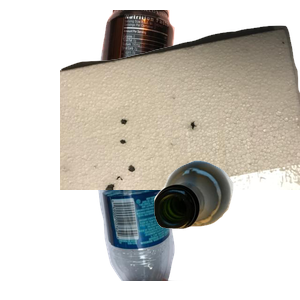glass: (151, 158, 300, 300)
metal: (91, 10, 258, 188)
plastic: (94, 120, 267, 300)
trash: (60, 23, 300, 203)
